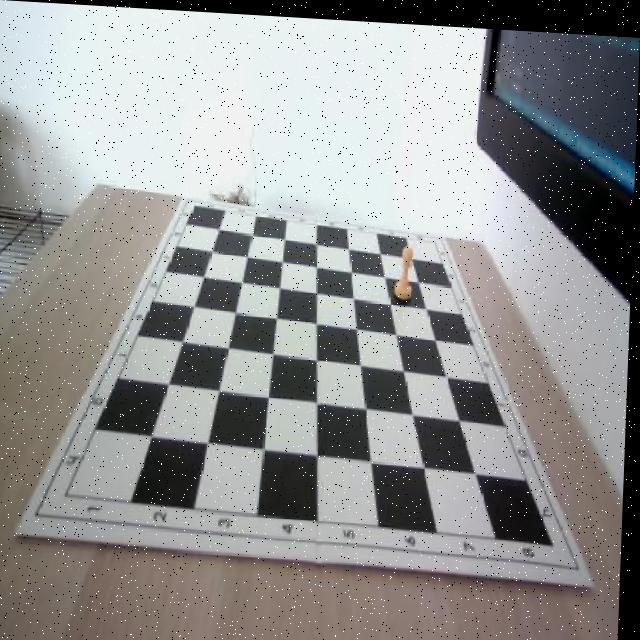white-knight: (395, 239, 417, 298)
